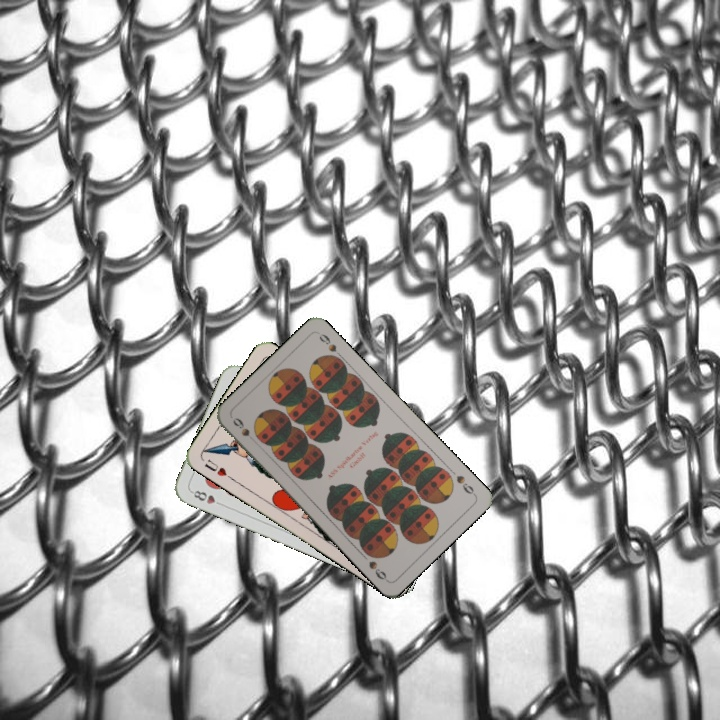H8: (187, 486, 226, 508)
HU: (200, 455, 235, 482)
S9: (228, 413, 257, 445), (452, 471, 478, 498)
